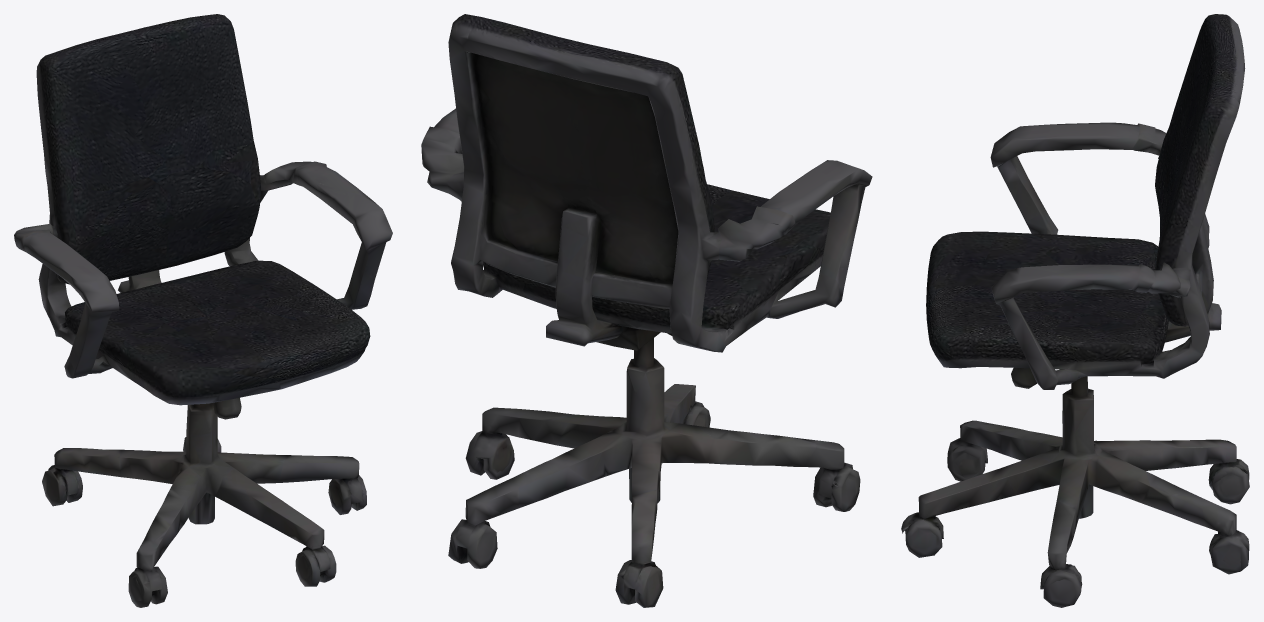
The model's file is chair.glb.
3 renders of one model, left to right at view 1: azimuth 30°, elevation 25°; view 2: azimuth 150°, elevation 25°; view 3: azimuth 270°, elevation 25°, orthographic. The views are drawn at different scales.
Parts seen in each view (by area): view 1: tripo_node_67532738-f57f-4c3f-bcd7-33614300d841; view 2: tripo_node_67532738-f57f-4c3f-bcd7-33614300d841; view 3: tripo_node_67532738-f57f-4c3f-bcd7-33614300d841.
Boxes of the visible parts, x1,y1,x2,y2 form: tripo_node_67532738-f57f-4c3f-bcd7-33614300d841: (14, 14, 392, 607); tripo_node_67532738-f57f-4c3f-bcd7-33614300d841: (421, 14, 872, 607); tripo_node_67532738-f57f-4c3f-bcd7-33614300d841: (901, 14, 1249, 607).
Size of the model in its own units: 0.6993 by 1 by 0.6597.
Materials: 1 (1 with a texture image).
